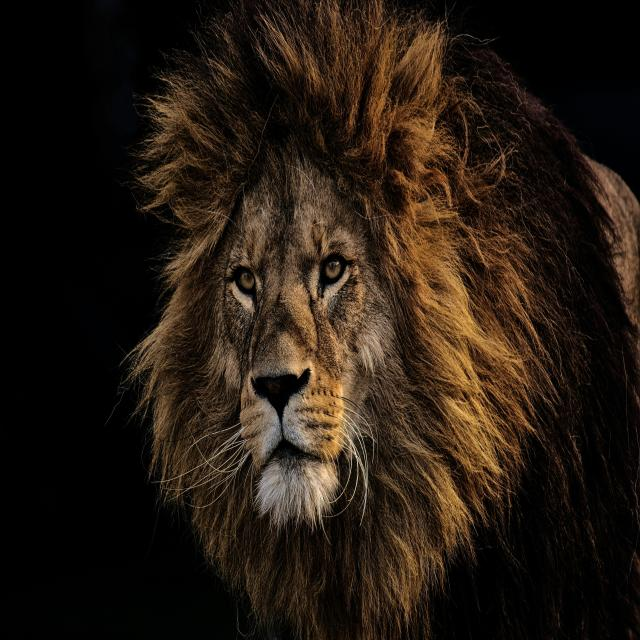Lion: (109, 2, 640, 640)
